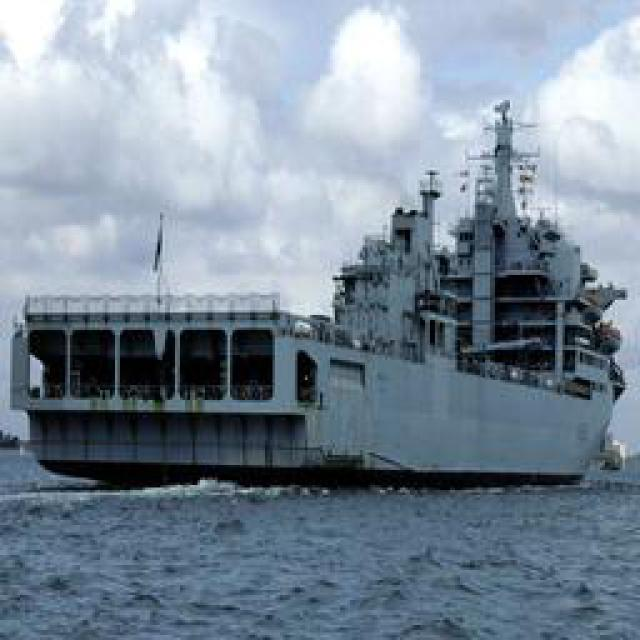Ship: (20, 164, 618, 489)
